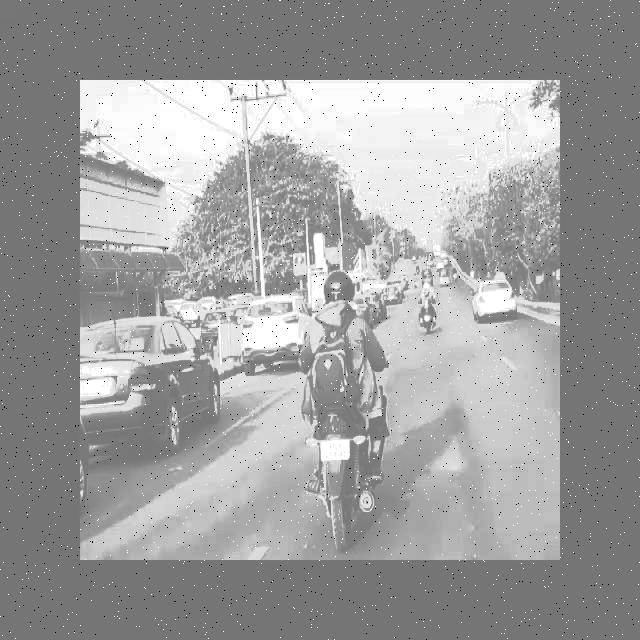Bike: (297, 278, 408, 552), (417, 278, 443, 335)
Car: (79, 304, 227, 458), (236, 288, 315, 374), (461, 266, 523, 330)
